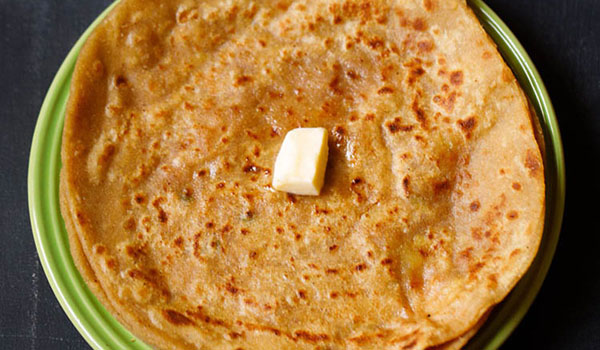aloo_paratha: (63, 2, 549, 350)
